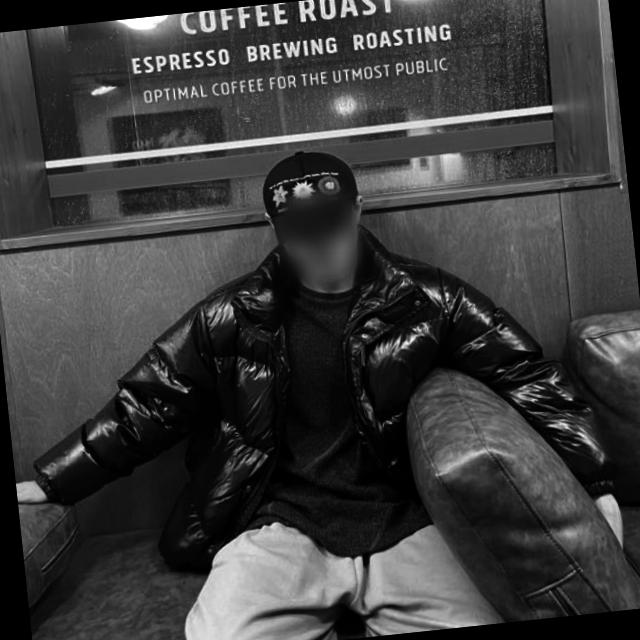mtm: (210, 249, 438, 571)
padding: (10, 194, 622, 588), (159, 493, 526, 640)
